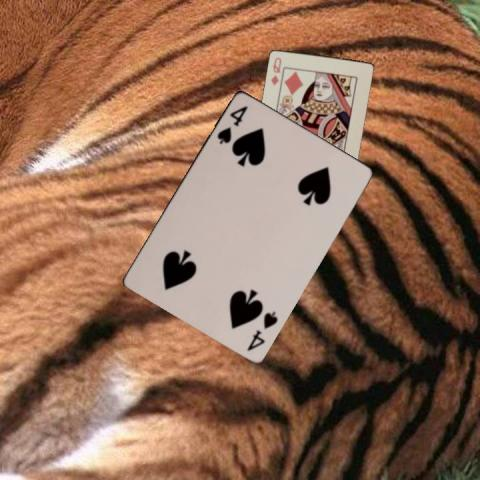4s: (244, 307, 280, 352), (214, 102, 249, 145)
Qd: (268, 55, 283, 86)
